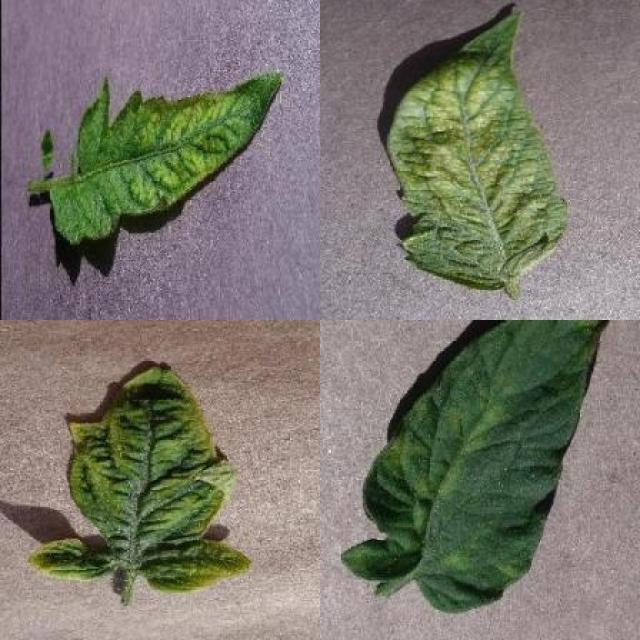Leaf Mold: (342, 320, 607, 614)
Mosaic Virus: (48, 72, 285, 248)
Spider Mites: (388, 7, 572, 290)
Yellow Leaf Curl Virus: (65, 366, 254, 596), (25, 538, 118, 581)
